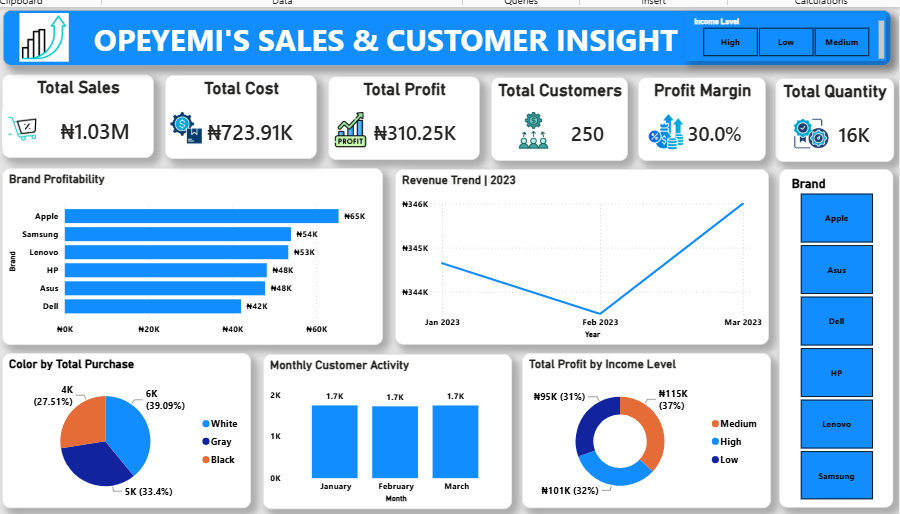

This screenshot's page, from the dashboard's own definition file:
{"tool":"powerbi","page":{"name":"Executive Dashboard","canvas":[1280,720],"ordinal":0},"visuals":[{"type":"cardVisual","title":"Total Sales","fields":{"Data":["Sales.Total Sales"]},"box":[10,95,215,119],"z":0},{"type":"cardVisual","title":"Total Profit","fields":{"Data":["Sales.Total Profit"]},"box":[472,97.8,215.4,119.1],"z":1000},{"type":"cardVisual","title":"Total Quantity","fields":{"Data":["Sales.Total Quantity"]},"box":[1105.5,100.6,168.7,119.1],"z":2000},{"type":"cardVisual","title":"Total Customers","fields":{"Data":["Sales.Total Customers"]},"box":[703,99.2,194.2,119.1],"z":3000},{"type":"cardVisual","title":"Profit Margin","fields":{"Data":["Sales.Profit Margin"]},"box":[911.3,99.2,181.4,119.1],"z":4000},{"type":"clusteredBarChart","title":"Brand Profitability","fields":{"Category":["Products.Brand"],"Y":["Sales.Total Profit"]},"box":[9.9,228.2,540,250.9],"z":5000},{"type":"pieChart","title":"Color by Total Purchase","fields":{"Category":["Products.Color"],"Y":["Sales.Total Quantity"]},"box":[9.9,490.4,353,220],"z":6000},{"type":"lineChart","title":"Revenue Trend | 2023","fields":{"Y":["Sales.Total Sales"],"Category":["Sales.SaleDate.Variation.Date Hierarchy.Year","Sales.SaleDate.Variation.Date Hierarchy.Month"]},"box":[566.9,229.6,530.1,249.4],"z":7000},{"type":"clusteredColumnChart","title":"Monthly Customer Activity","fields":{"Category":["Sales.SaleDate.Variation.Date Hierarchy.Month"],"Y":["CountNonNull(Sales.CustomerID)"]},"box":[379.8,491.8,353,220],"z":8000},{"type":"donutChart","title":"Total Profit by Income Level","fields":{"Category":["Customers.IncomeLevel"],"Y":["Sales.Total Profit"]},"box":[746.9,490.4,353,220],"z":9000},{"type":"slicer","fields":{"Values":["Products.Brand"]},"box":[1111.2,229.6,161.6,480.5],"z":10000},{"type":"textbox","box":[11.3,4.3,1258.6,79.4],"z":10500},{"type":"slicer","fields":{"Values":["Customers.IncomeLevel"]},"box":[978,8.5,284.9,68],"z":11000},{"type":"cardVisual","title":"Total Cost","fields":{"Data":["Sales.Total Cost"]},"box":[240.9,96.4,215.4,119.1],"z":13000},{"type":"image","box":[15.6,8.5,107.7,69.4],"z":14000},{"type":"image","box":[239.5,146,62.4,52.4],"z":15000},{"type":"image","box":[472,148.8,63.8,49.6],"z":16000},{"type":"image","box":[1125.4,150.2,62.4,56.7],"z":17000},{"type":"image","box":[9.9,129,52.4,85],"z":18000},{"type":"image","box":[732.8,148.8,60.9,52.4],"z":19000},{"type":"image","box":[924.1,151.7,53.9,49.6],"z":20000}]}

Visuals, with their boxes on the page's 1280x720 design canvas (x1, y1, x2, y2). These are canvas units, not pixel positions in the 900x514 screenshot, which may show the page scaled, cropped or inside an application window:
"Total Sales" cardVisual: [10,95,225,214]
"Total Profit" cardVisual: [472,98,687,217]
"Total Quantity" cardVisual: [1106,101,1274,220]
"Total Customers" cardVisual: [703,99,897,218]
"Profit Margin" cardVisual: [911,99,1093,218]
"Brand Profitability" clusteredBarChart: [10,228,550,479]
"Color by Total Purchase" pieChart: [10,490,363,710]
"Revenue Trend | 2023" lineChart: [567,230,1097,479]
"Monthly Customer Activity" clusteredColumnChart: [380,492,733,712]
"Total Profit by Income Level" donutChart: [747,490,1100,710]
slicer - Products.Brand: [1111,230,1273,710]
textbox: [11,4,1270,84]
slicer - Customers.IncomeLevel: [978,8,1263,76]
"Total Cost" cardVisual: [241,96,456,216]
image: [16,8,123,78]
image: [240,146,302,198]
image: [472,149,536,198]
image: [1125,150,1188,207]
image: [10,129,62,214]
image: [733,149,794,201]
image: [924,152,978,201]
